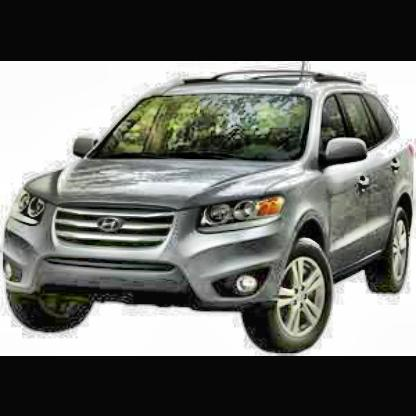Hyundai Santa Fe SUV 2012: (4, 69, 416, 356)
